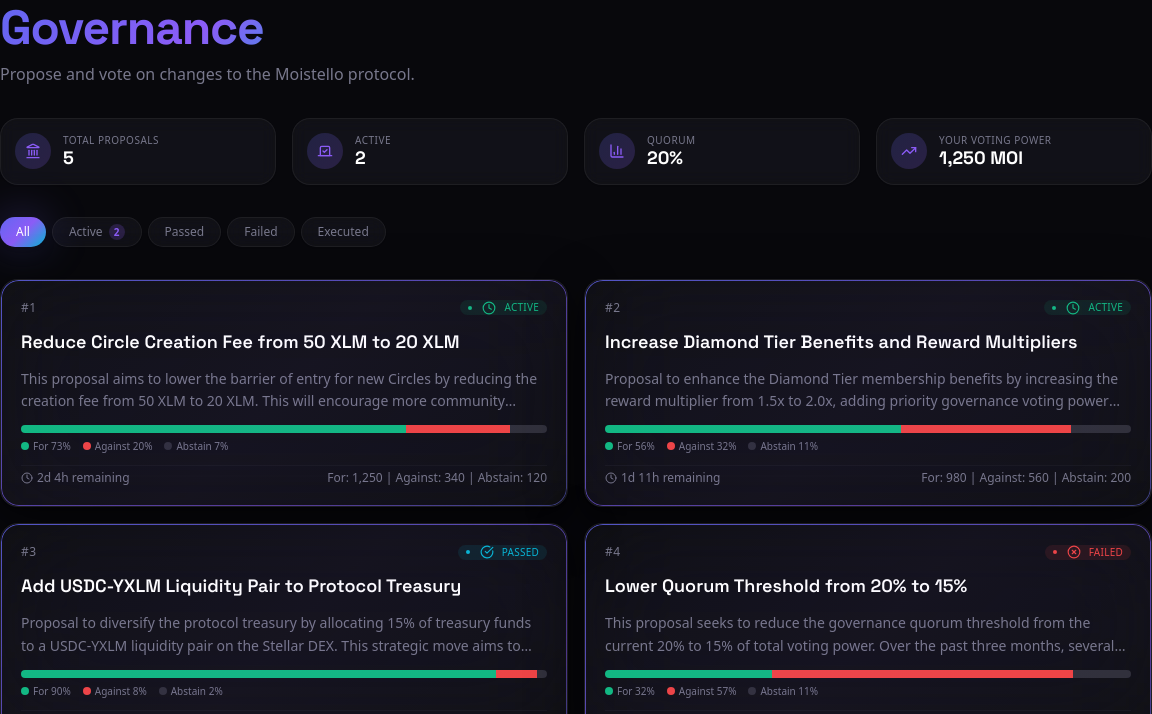
Test: Governance List Interactions › clicking 'Active' filter tab filters to active proposals only
The image size is (1152, 714).
Click the button "Active 2" at (97, 232), box 52,216 -> 142,246
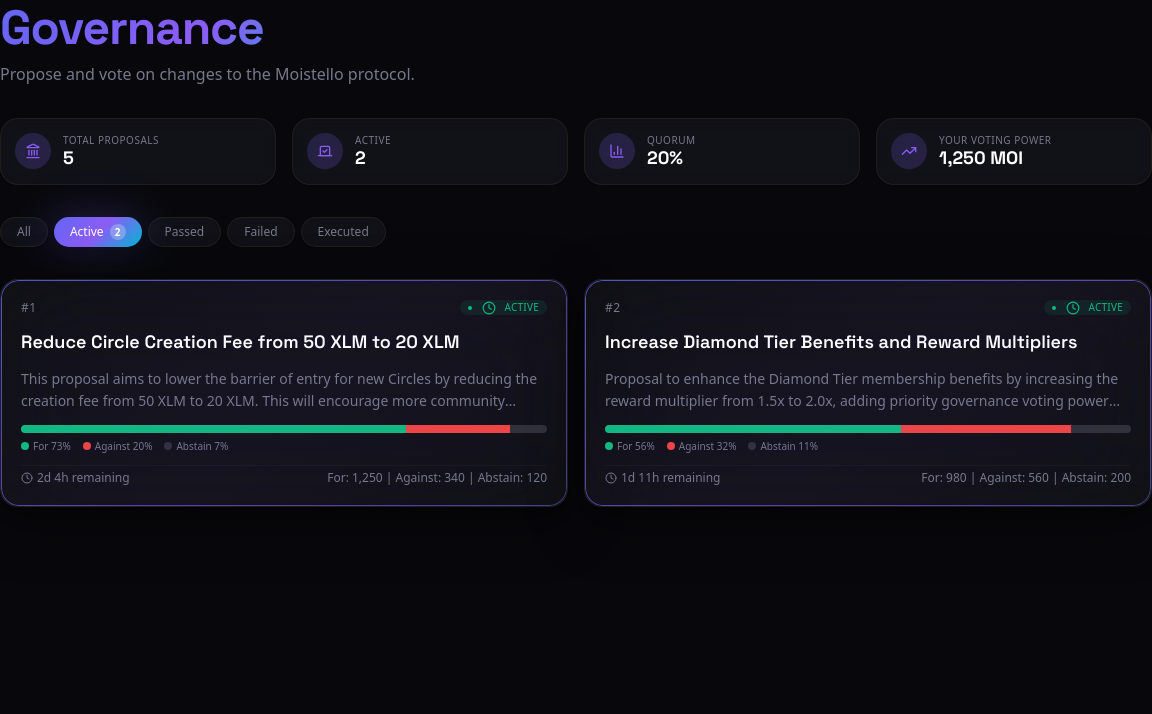
Expected: the heading "Reduce Circle Creation Fee from 50 XLM to 20 XLM" is shown, 21,330 -> 460,352
Expected: the heading "Add USDC-YXLM Liquidity Pair to Protocol Treasury" is gone
Expected: the heading "Lower Quorum Threshold from 20% to 15%" is gone
